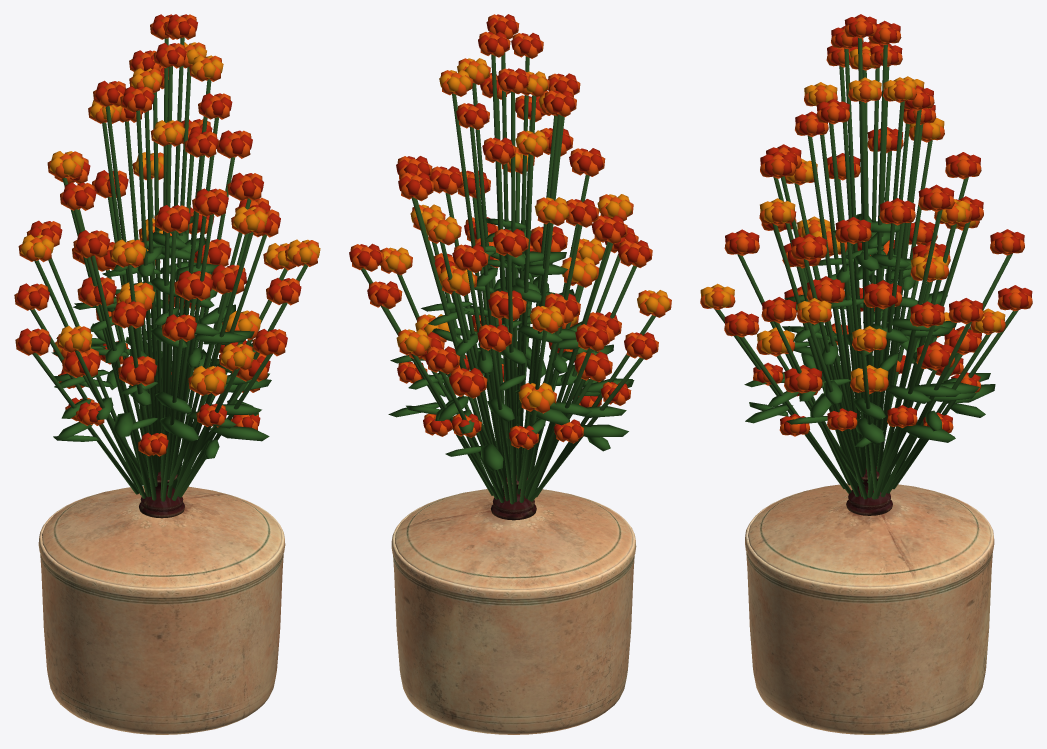
The model's file is floor-marigold-clusters.glb.
The picture shows the model from 3 angles, left to right: view 1: azimuth 30°, elevation 25°; view 2: azimuth 150°, elevation 25°; view 3: azimuth 270°, elevation 25°; orthographic projection. The views are drawn at different scales.
Visible parts, largest first — view 1: CC0_Brass_01, BS_MehndiStem_42, BS_MehndiStem_35, BS_MehndiStem_31, BS_MehndiStem_30, BS_MehndiStem_23, BS_MehndiStem_26, BS_MehndiStem_36, BS_MehndiStem_27, BS_MehndiStem_25, BS_MehndiStem_32, BS_MehndiStem_44 (+19 smaller); view 2: CC0_Brass_01, BS_MehndiStem_33, BS_MehndiStem_30, BS_MehndiStem_31, BS_MehndiStem_23, BS_MehndiStem_20, BS_MehndiStem_43, BS_MehndiStem_41, BS_MehndiStem_17, BS_MehndiStem_18, BS_MehndiStem_19, BS_MehndiStem_39 (+16 smaller); view 3: CC0_Brass_01, BS_MehndiStem_31, BS_MehndiStem_40, BS_MehndiStem_38, BS_MehndiStem_36, BS_MehndiStem_37, BS_MehndiStem_43, BS_MehndiStem_17, BS_MehndiStem_39, BS_MehndiStem_16, BS_MehndiStem_27, BS_MehndiStem_30 (+21 smaller).
Part boxes in pixels (left/top/right/bottom): CC0_Brass_01: left=38, top=471, right=285, bottom=734; BS_MehndiStem_42: left=144, top=111, right=160, bottom=472; BS_MehndiStem_35: left=136, top=110, right=157, bottom=475; BS_MehndiStem_31: left=153, top=92, right=161, bottom=463; BS_MehndiStem_30: left=169, top=67, right=191, bottom=416; BS_MehndiStem_23: left=91, top=255, right=149, bottom=496; BS_MehndiStem_26: left=167, top=214, right=213, bottom=497; BS_MehndiStem_36: left=160, top=144, right=171, bottom=477; BS_MehndiStem_27: left=174, top=232, right=253, bottom=493; BS_MehndiStem_25: left=160, top=230, right=176, bottom=498; BS_MehndiStem_32: left=125, top=121, right=150, bottom=416; BS_MehndiStem_44: left=166, top=37, right=184, bottom=450; CC0_Brass_01: left=391, top=475, right=636, bottom=734; BS_MehndiStem_33: left=516, top=154, right=533, bottom=494; BS_MehndiStem_30: left=452, top=93, right=503, bottom=488; BS_MehndiStem_31: left=469, top=126, right=506, bottom=477; BS_MehndiStem_23: left=525, top=242, right=612, bottom=498; BS_MehndiStem_20: left=507, top=253, right=516, bottom=502; BS_MehndiStem_43: left=516, top=56, right=529, bottom=453; BS_MehndiStem_41: left=511, top=91, right=515, bottom=451; BS_MehndiStem_17: left=411, top=197, right=497, bottom=485; BS_MehndiStem_18: left=440, top=241, right=504, bottom=497; BS_MehndiStem_19: left=467, top=269, right=509, bottom=501; BS_MehndiStem_39: left=472, top=83, right=500, bottom=392; CC0_Brass_01: left=745, top=466, right=994, bottom=734; BS_MehndiStem_31: left=876, top=109, right=921, bottom=472; BS_MehndiStem_40: left=872, top=44, right=887, bottom=422; BS_MehndiStem_38: left=829, top=123, right=865, bottom=486; BS_MehndiStem_36: left=820, top=134, right=859, bottom=452; BS_MehndiStem_37: left=807, top=135, right=858, bottom=485; BS_MehndiStem_43: left=844, top=48, right=866, bottom=468; BS_MehndiStem_17: left=878, top=209, right=942, bottom=495; BS_MehndiStem_39: left=860, top=101, right=871, bottom=422; BS_MehndiStem_16: left=867, top=222, right=904, bottom=497; BS_MehndiStem_27: left=772, top=223, right=858, bottom=491; BS_MehndiStem_30: left=872, top=101, right=904, bottom=490.
Bounding box in the file's own units: 0.4445 × 1.03 × 0.4532.
6 materials, 1 textured.
